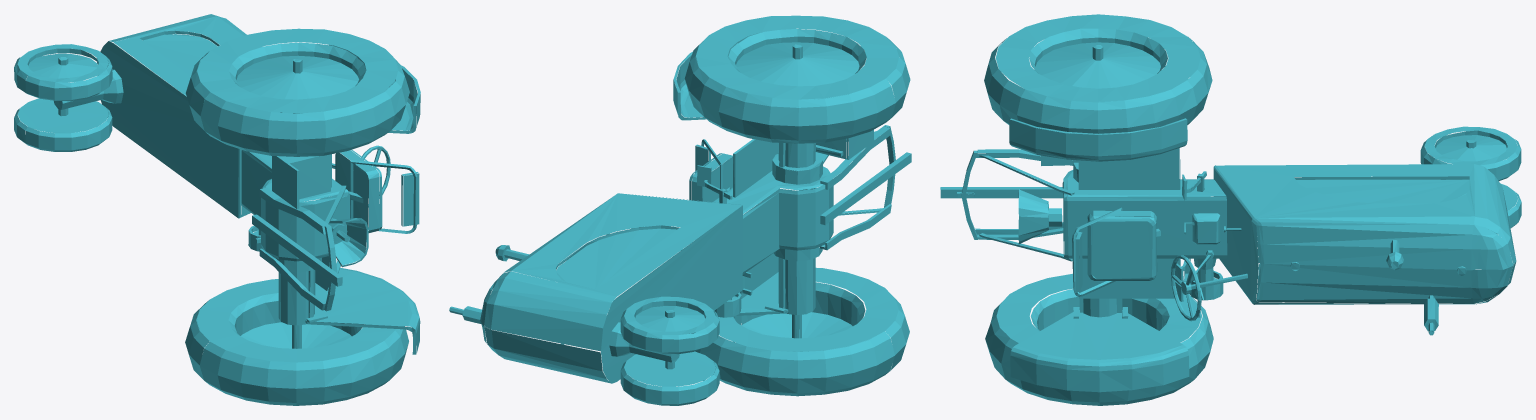
The picture shows the model from 3 angles, left to right: view 1: azimuth 30°, elevation 25°; view 2: azimuth 150°, elevation 25°; view 3: azimuth 270°, elevation 25°; orthographic projection. The views are drawn at different scales.
Visible parts, largest first — view 1: Renderer Node; view 2: Renderer Node; view 3: Renderer Node.
Boxes of the visible parts, bbox=[...] form: Renderer Node: bbox=[14, 14, 420, 405]; Renderer Node: bbox=[449, 15, 911, 405]; Renderer Node: bbox=[940, 14, 1521, 405].
Size of the model in its own units: 1.13 by 1.22 by 1.97.
1 material, 1 textured.
